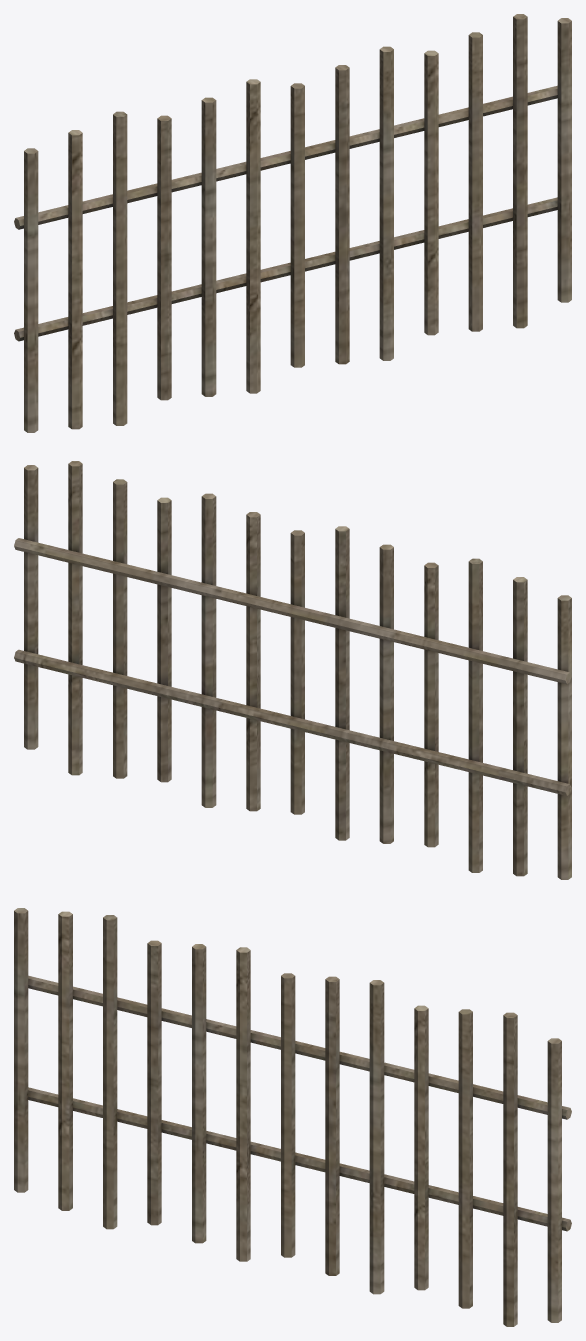
The model's file is fence_bamboo.glb.
3 views of the same model, one above another, from view 1: azimuth 30°, elevation 25°; view 2: azimuth 150°, elevation 25°; view 3: azimuth 330°, elevation 25° (orthographic).
Visible parts, largest first — view 1: fence_bamboo; view 2: fence_bamboo; view 3: fence_bamboo.
Part boxes in pixels (left/top/right/bottom): fence_bamboo: left=14, top=14, right=571, bottom=432; fence_bamboo: left=14, top=461, right=571, bottom=879; fence_bamboo: left=14, top=908, right=571, bottom=1326.
Bounding box in the file's own units: 3.1 × 1.66 × 0.115.
Materials: 1 (1 with a texture image).
